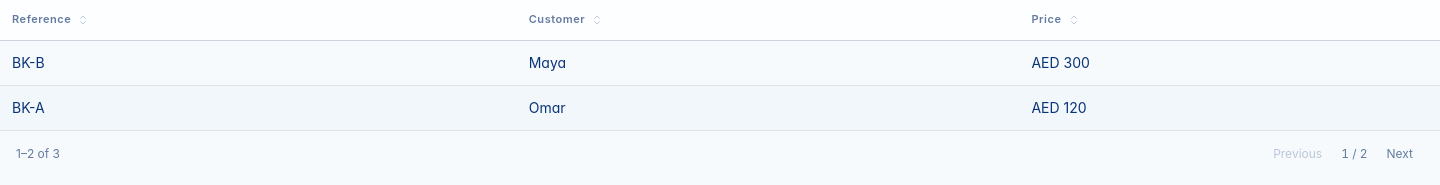
Scenario: DataTable › paginates and reports the visible range
The width and height of the screenshot is (1440, 185).
expect the text "1–2 of 3" is shown: met, box 16,146 -> 60,162
Click the button "Next". click: (1400, 154)
box: 1376,138 -> 1424,168
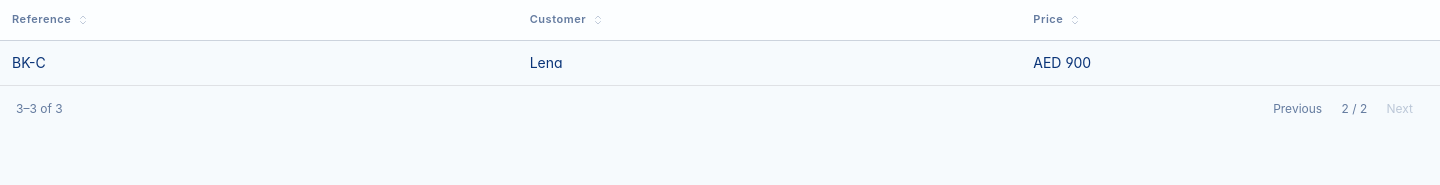
expect the button "Next" is disabled: met, box 1376,94 -> 1424,124
